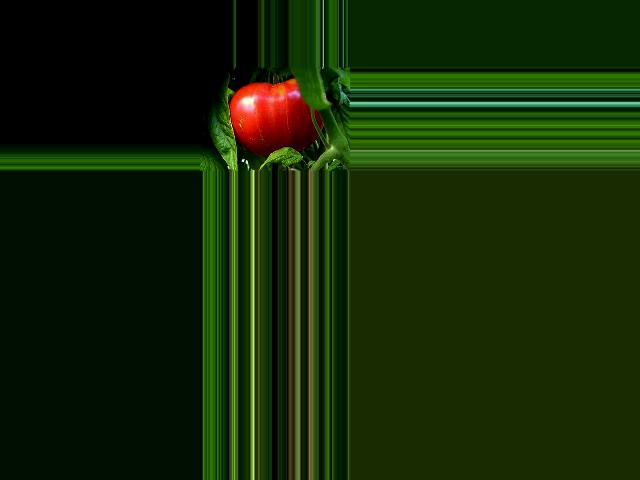tomato: (228, 78, 323, 156)
